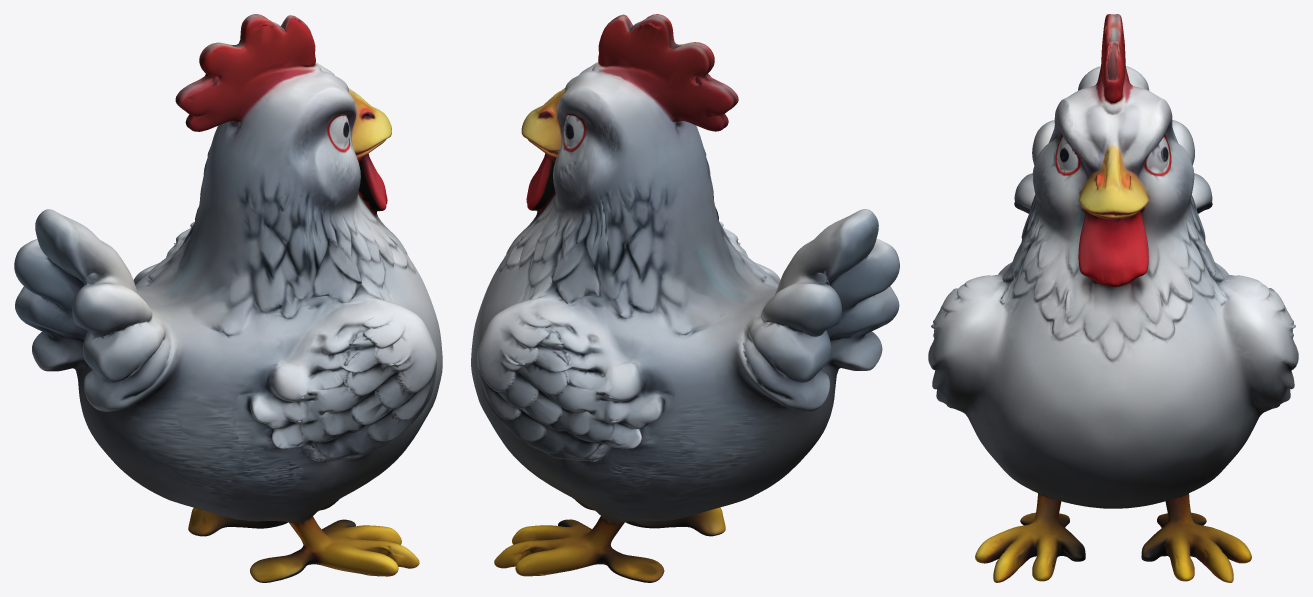
Rendered from chicken_lite.glb.
3 renders of one model, left to right at view 1: azimuth 30°, elevation 25°; view 2: azimuth 150°, elevation 25°; view 3: azimuth 270°, elevation 25°, orthographic. The views are drawn at different scales.
Parts seen in each view (by area): view 1: tripo_node_8b6a01d7-4a93-4f7e-8215-5c3bde06815a; view 2: tripo_node_8b6a01d7-4a93-4f7e-8215-5c3bde06815a; view 3: tripo_node_8b6a01d7-4a93-4f7e-8215-5c3bde06815a.
Boxes of the visible parts, x1=… form: tripo_node_8b6a01d7-4a93-4f7e-8215-5c3bde06815a: x1=14, y1=14, x2=442, y2=582; tripo_node_8b6a01d7-4a93-4f7e-8215-5c3bde06815a: x1=471, y1=14, x2=899, y2=582; tripo_node_8b6a01d7-4a93-4f7e-8215-5c3bde06815a: x1=928, y1=14, x2=1298, y2=582.
Bounding box in the file's own units: 0.7218 × 0.9791 × 0.6301.
Materials: 1 (1 with a texture image).
